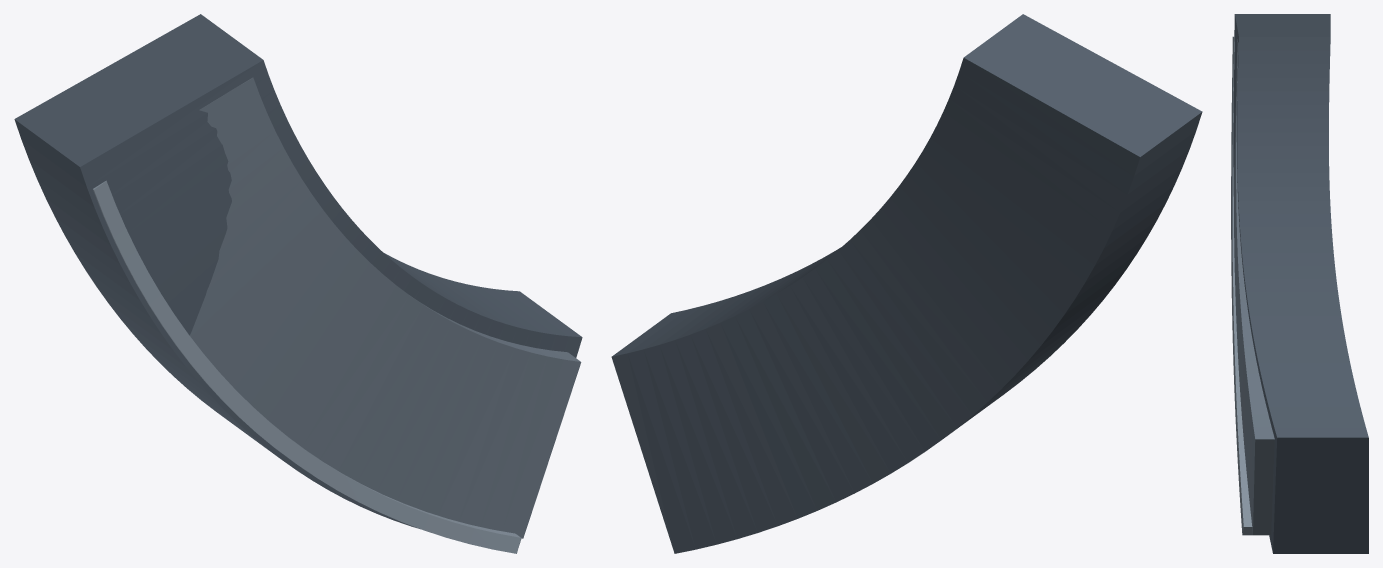
File: ev_core_r10dp_outer_sw.glb
3 renders of one model, left to right at view 1: azimuth 30°, elevation 25°; view 2: azimuth 150°, elevation 25°; view 3: azimuth 270°, elevation 25°, orthographic. The views are drawn at different scales.
Visible parts, largest first — view 1: outer_sw_inset, outer_sw_body, outer_sw_edge; view 2: outer_sw_body; view 3: outer_sw_body, outer_sw_inset, outer_sw_edge.
Boxes of the visible parts, x1,y1,x2,y2 form: outer_sw_inset: [189, 77, 581, 538]; outer_sw_body: [14, 14, 582, 543]; outer_sw_edge: [93, 180, 520, 553]; outer_sw_body: [611, 14, 1202, 553]; outer_sw_body: [1233, 14, 1368, 553]; outer_sw_inset: [1233, 39, 1274, 535]; outer_sw_edge: [1231, 36, 1252, 535].
Size of the model in its own units: 117 by 121 by 36.07.
